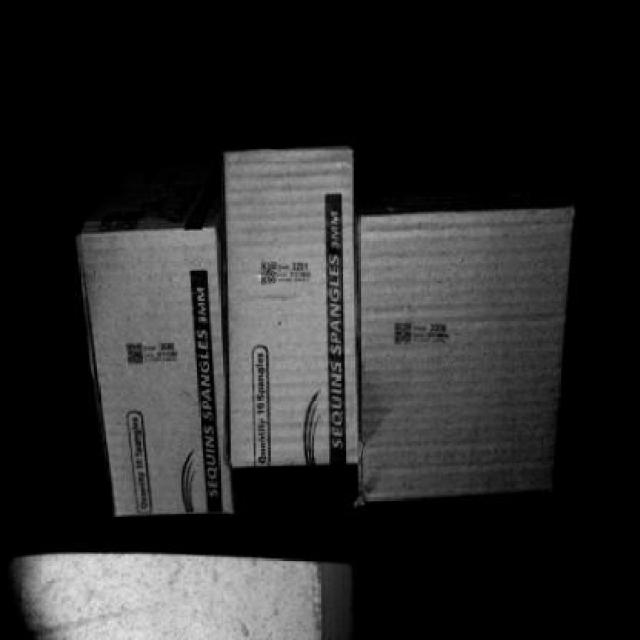cardboxes: (363, 209, 562, 496), (84, 234, 230, 529), (228, 148, 358, 458)
